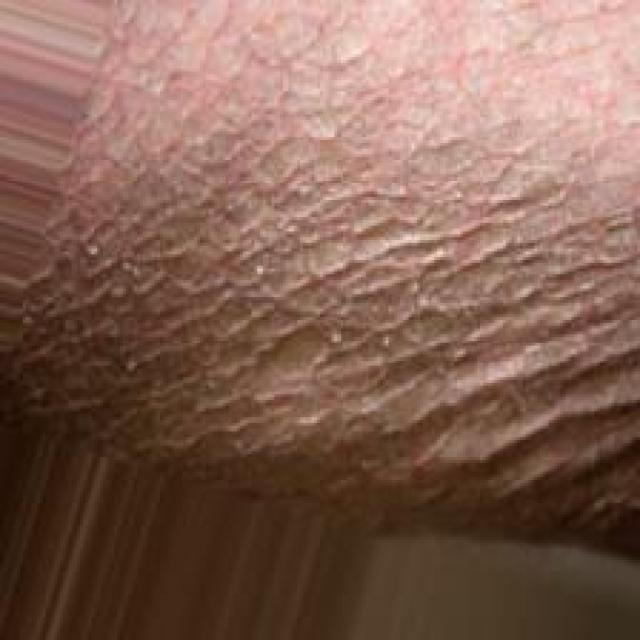Eczema: (85, 1, 633, 460)
